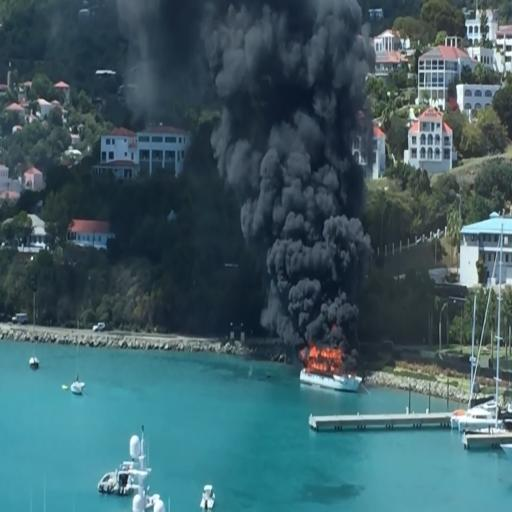smoke: (226, 0, 364, 287)
